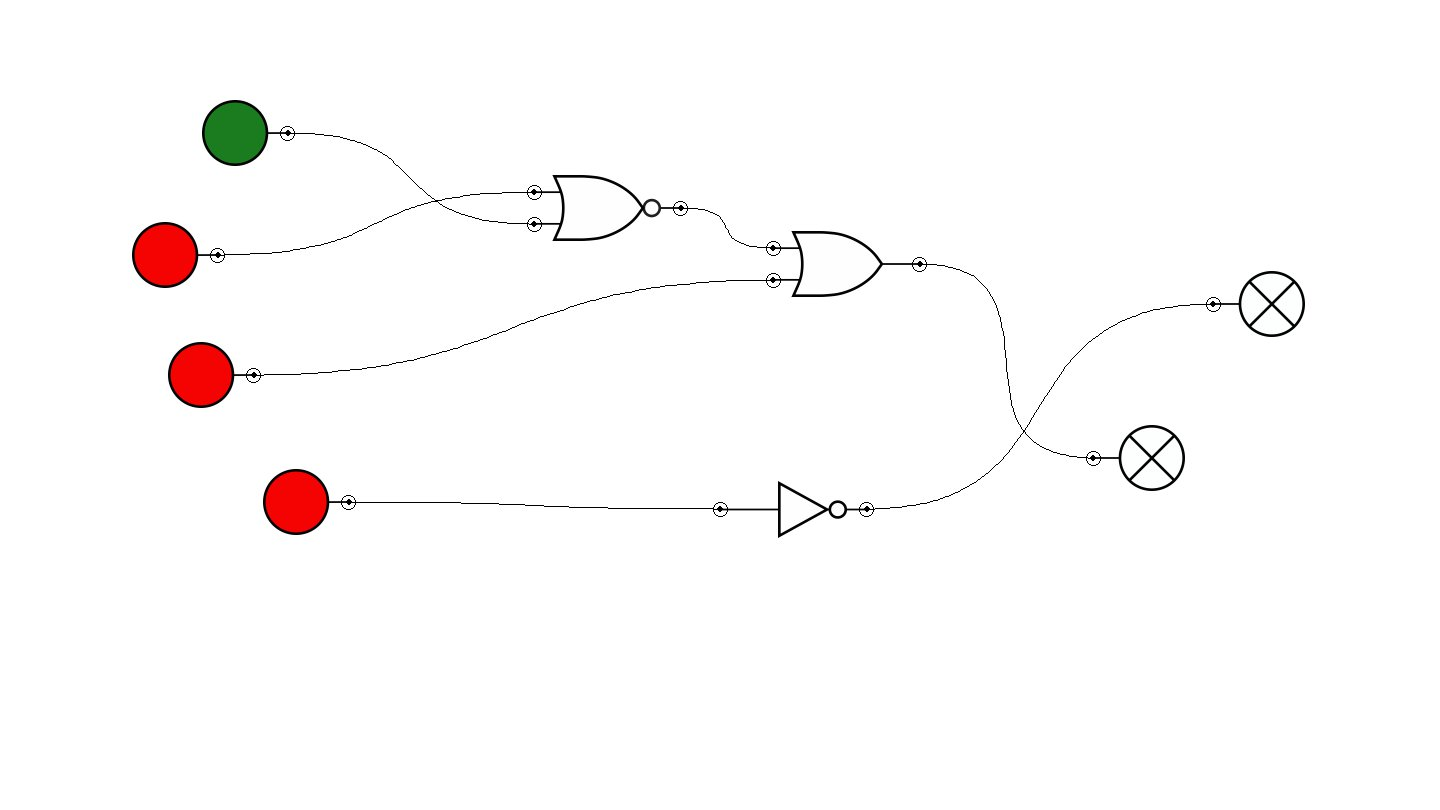bulb: (1206, 271, 1305, 337), (1086, 425, 1185, 491)
nor: (527, 175, 688, 241)
not: (713, 481, 874, 538)
or: (766, 231, 927, 297)
switch_False: (263, 469, 356, 535), (168, 342, 261, 408), (132, 222, 225, 288)
switch_True: (202, 100, 295, 166)
